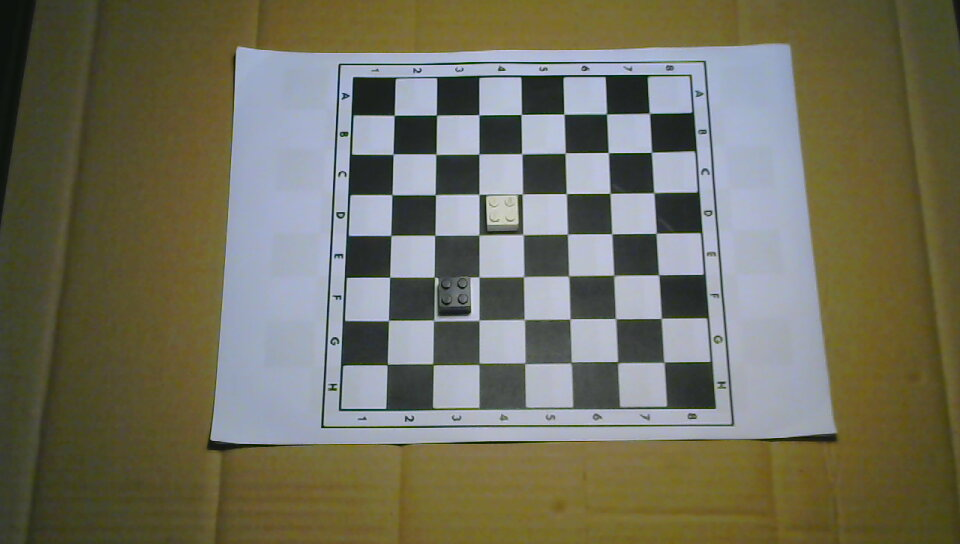bp: (436, 274, 472, 314)
wp: (484, 193, 520, 231)
